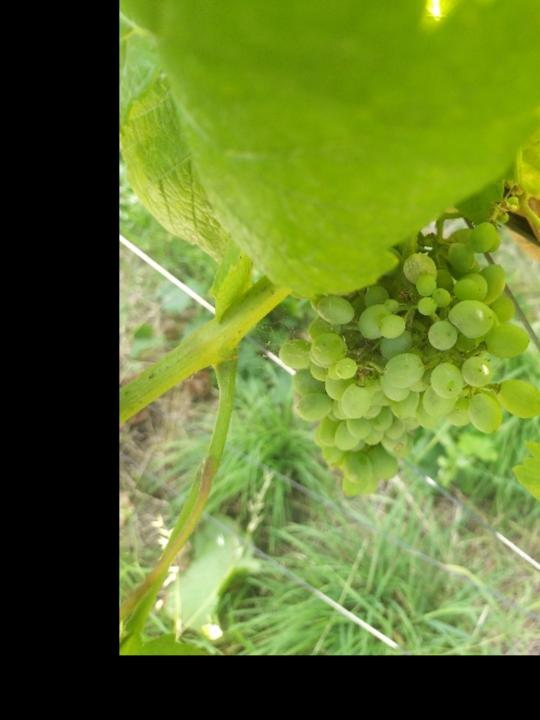grape: (272, 182, 540, 504)
